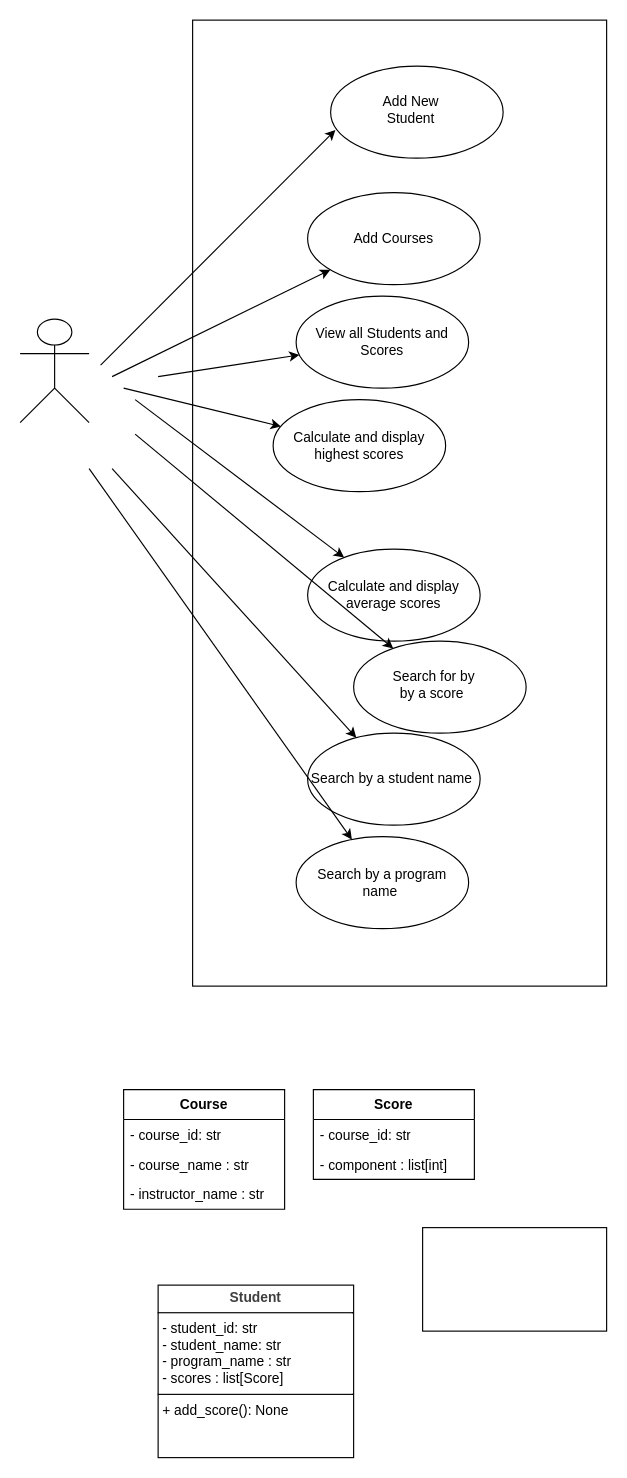
The diagram is 627 pixels wide and 1478 high, and some of its shapes have lost their labels. Here are the shapes that lost their labels. From the top down, the centre of each, then its label:
At pixel 54 370: "Actor".
At pixel 514 1278: "Records + field: Type + method(): Type".
